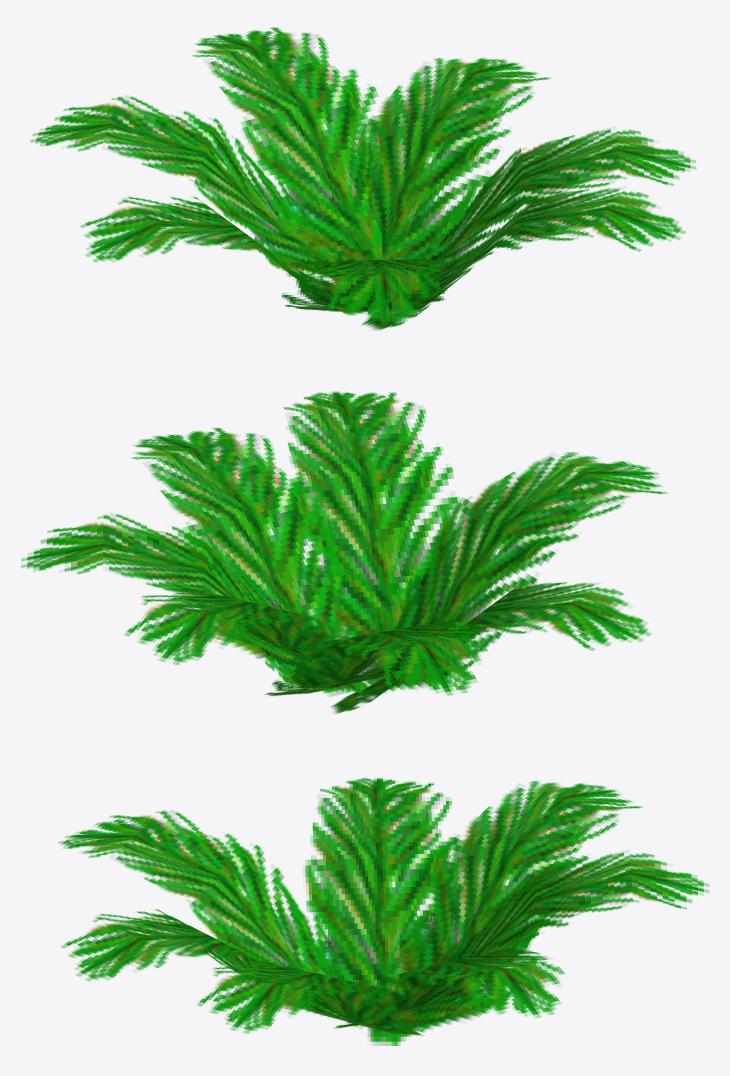
Rendered from plant.glb.
The picture shows the model from 3 angles, top to bottom: view 1: azimuth 30°, elevation 25°; view 2: azimuth 150°, elevation 25°; view 3: azimuth 270°, elevation 25°; orthographic projection. The views are drawn at different scales.
Visible parts, largest first — view 1: Object_3; view 2: Object_3; view 3: Object_3.
Part boxes in pixels (x1,y1,x2,y2): Object_3: [30, 27, 696, 330]; Object_3: [21, 391, 668, 713]; Object_3: [58, 778, 709, 1045].
Bounding box in the file's own units: 1.45 × 0.4105 × 1.5.
1 material, 1 textured.
